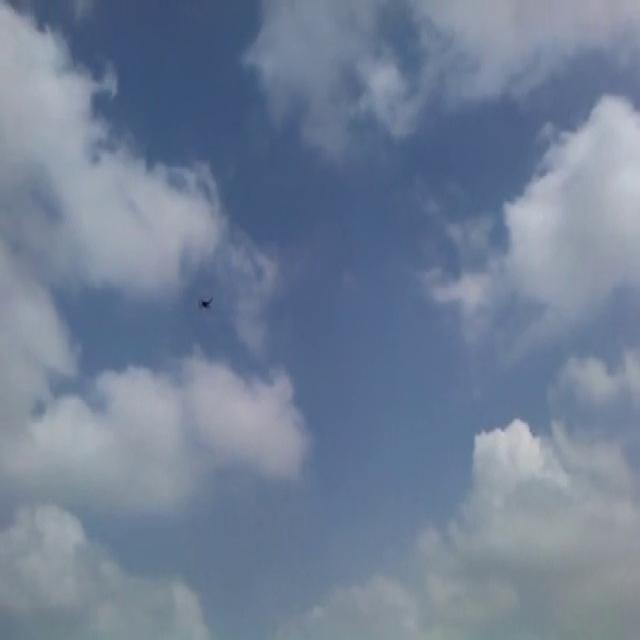drone: (196, 288, 214, 316)
